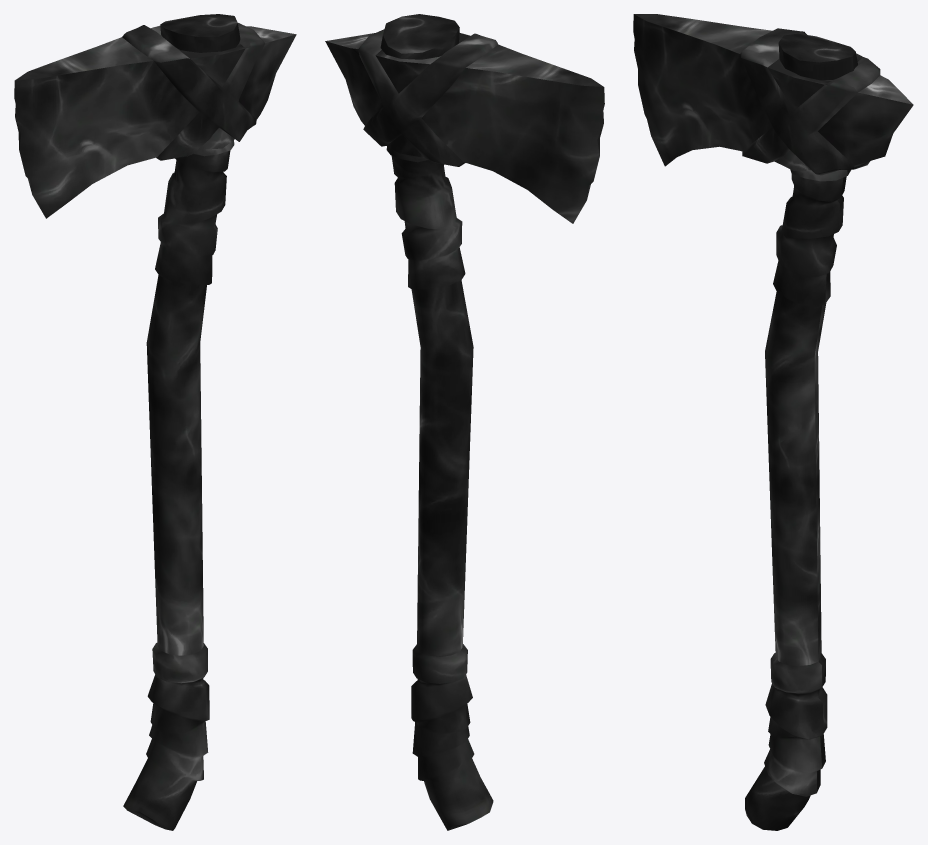
The picture shows the model from 3 angles, left to right: view 1: azimuth 30°, elevation 25°; view 2: azimuth 150°, elevation 25°; view 3: azimuth 330°, elevation 25°; orthographic projection.
Visible parts, largest first — view 1: SM_SpectralLoggingAxe_Refined_2H_01_LOD0; view 2: SM_SpectralLoggingAxe_Refined_2H_01_LOD0; view 3: SM_SpectralLoggingAxe_Refined_2H_01_LOD0.
Part boxes in pixels (left/top/right/bottom): SM_SpectralLoggingAxe_Refined_2H_01_LOD0: left=14, top=14, right=296, bottom=830; SM_SpectralLoggingAxe_Refined_2H_01_LOD0: left=325, top=14, right=604, bottom=830; SM_SpectralLoggingAxe_Refined_2H_01_LOD0: left=633, top=14, right=913, bottom=830.
Bounding box in the file's own units: 0.4124 × 1.11 × 0.1342.
Materials: 1 (1 with a texture image).
